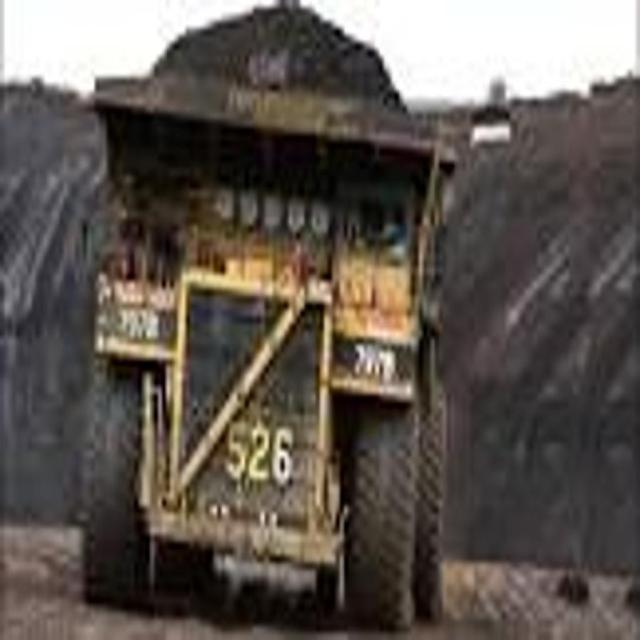dump_truck: (81, 0, 456, 640)
